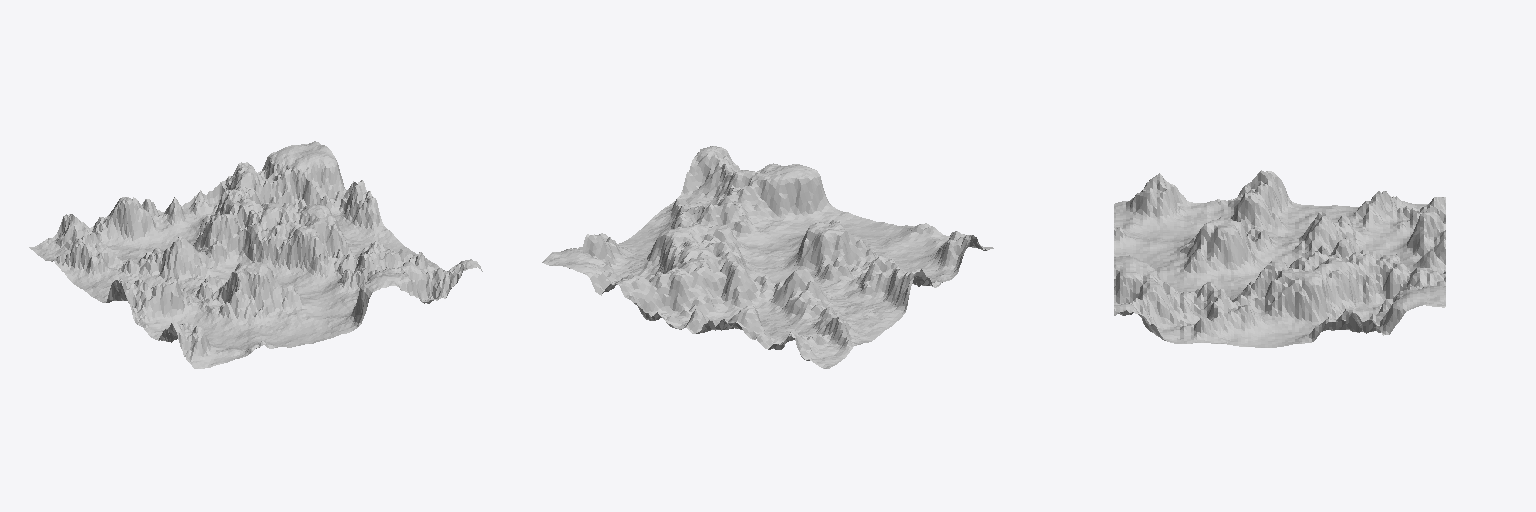
The model's file is terrain2.obj.
The picture shows the model from 3 angles: view 1: azimuth 30°, elevation 25°; view 2: azimuth 150°, elevation 25°; view 3: azimuth 270°, elevation 25°; orthographic projection.
Visible parts, largest first — view 1: Grid_Grid.001; view 2: Grid_Grid.001; view 3: Grid_Grid.001.
Boxes of the visible parts, box(x1,y1,x2,y2) form: Grid_Grid.001: box(29, 141, 482, 368); Grid_Grid.001: box(542, 146, 993, 368); Grid_Grid.001: box(1114, 170, 1445, 347).
Size of the model in its own units: 9.99 by 1.44 by 9.99.